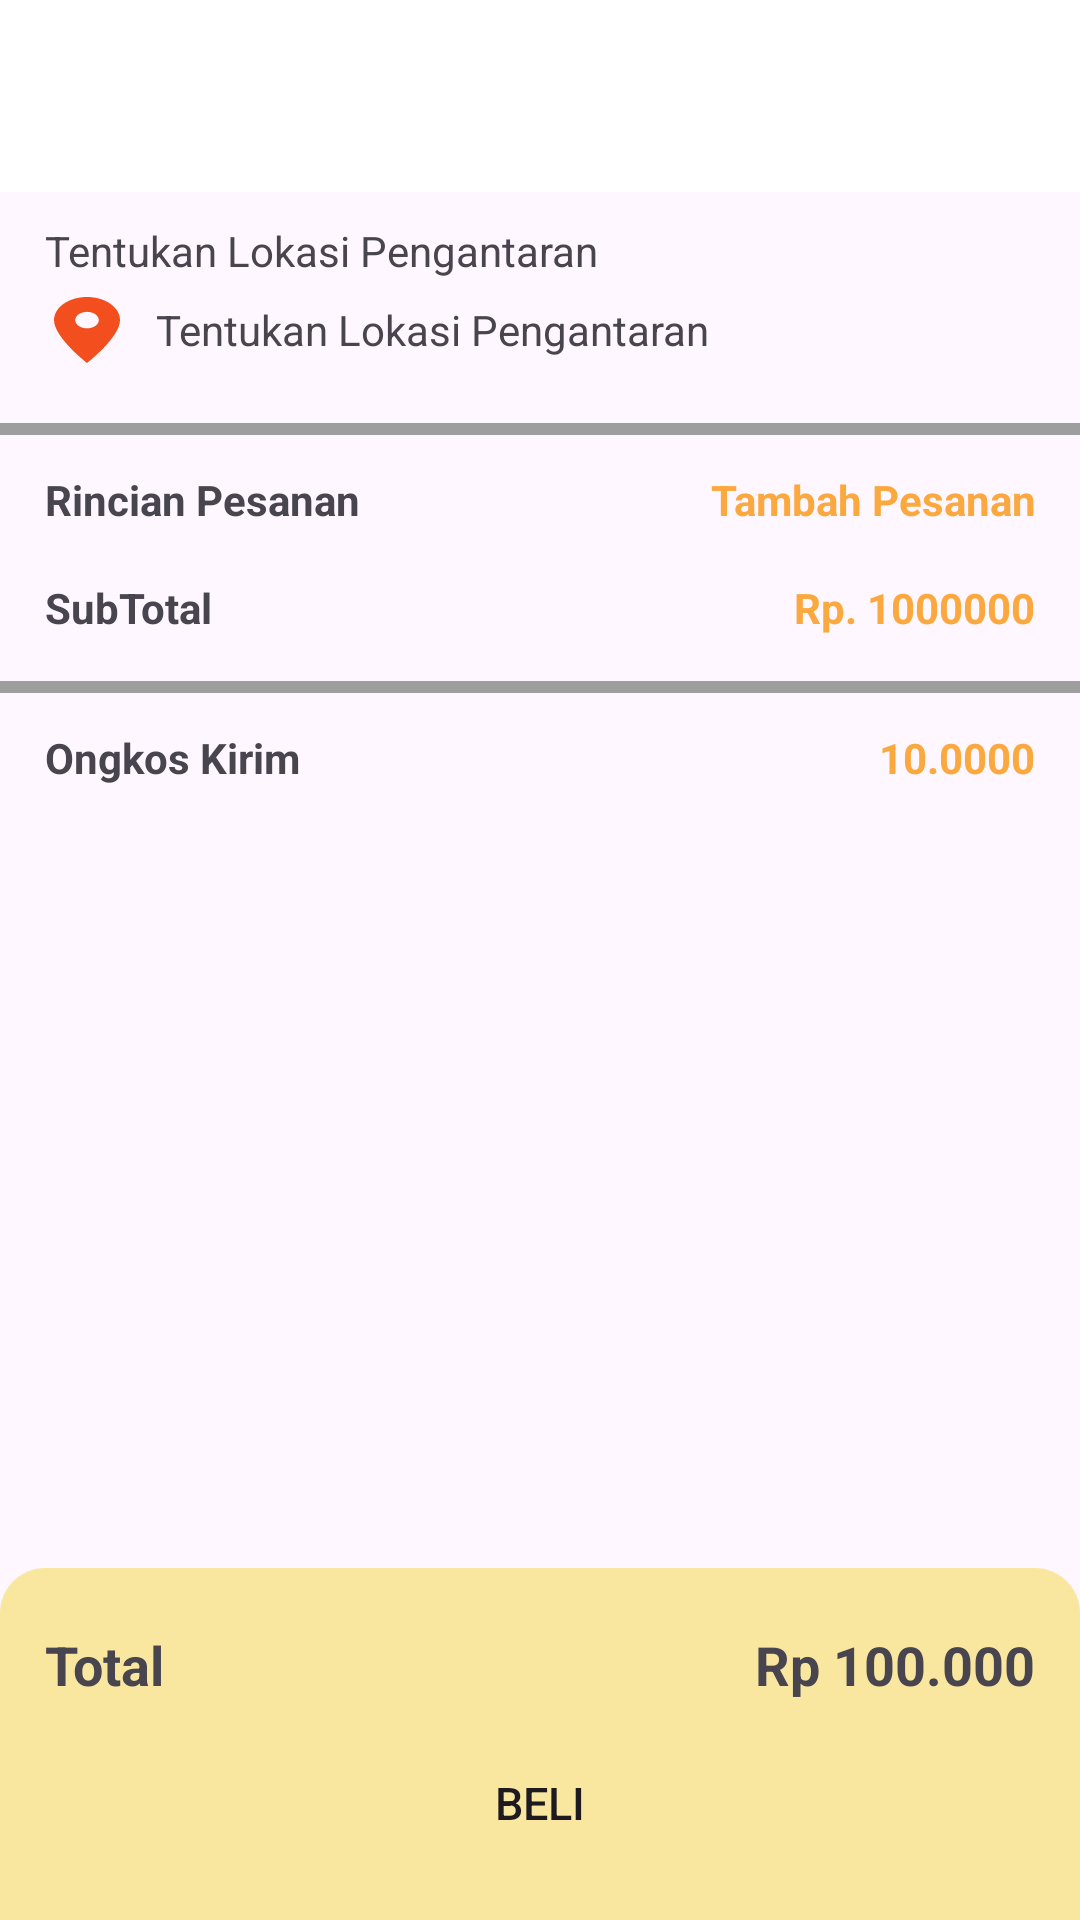

Icons on this 1080*1920 Android screen, each with the point to tap as point (x, y):
pinmap: point (87, 330)
